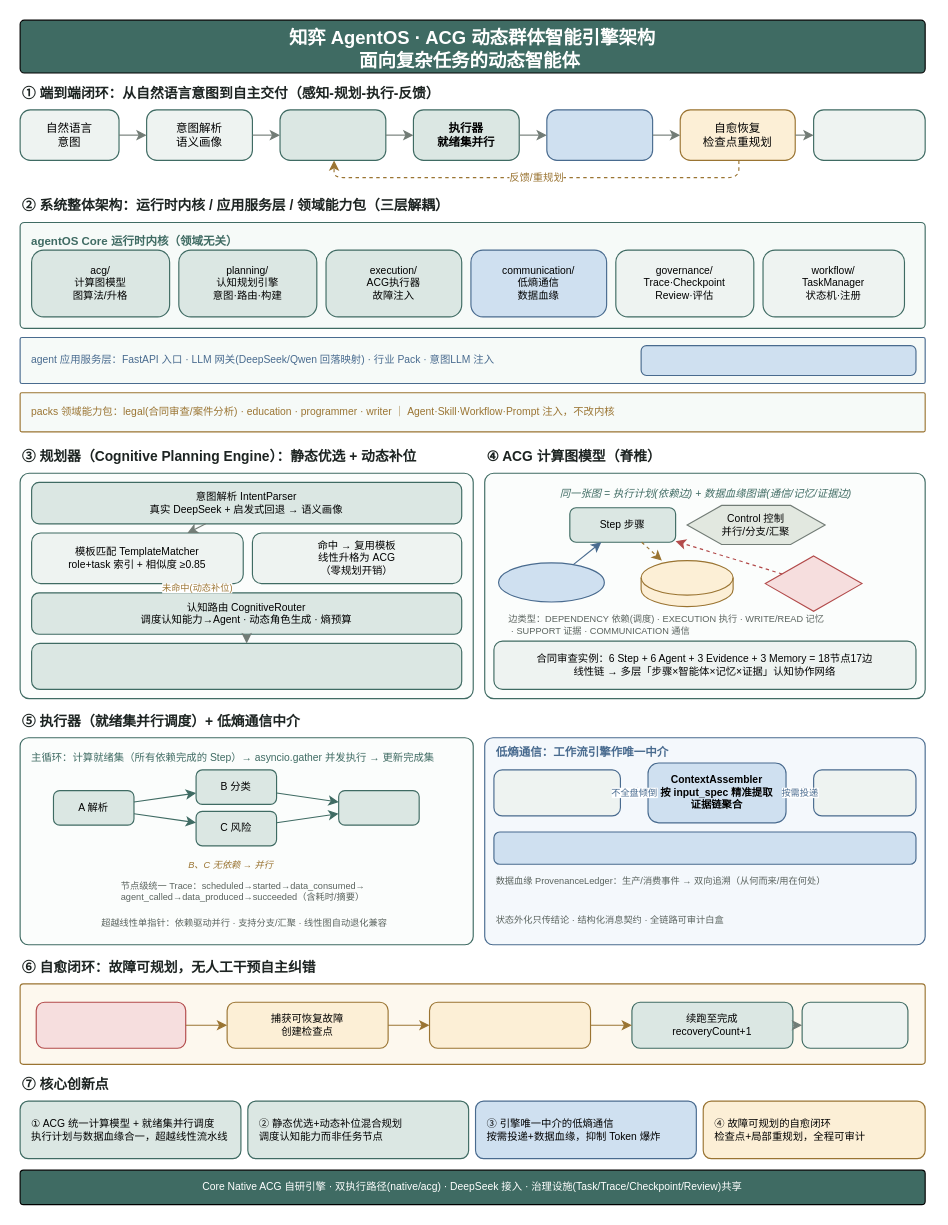
This 948x1225 diagram has some shape labels left out. The shapes that lost their labels are listed below. From the top down, each one's centre as x and y in pixels, then its label:
(332,134): 规划器 生成 ACG
(599,134): 低熵通信 按需投递
(868,134): 交付物 +全链路审计
(778,359): 双执行路径：native · acg
(550,582): Agent 智能体
(686,583): Memory 记忆
(813,583): Evidence 证据
(246,665): ACG 构建器 ACGBuilder 步骤分解 · 赋能节点注入(Memory/Evidence) · 环检测
(378,807): D 汇聚
(556,792): 上游 Step 完整输出 （全部字段）
(864,792): 下游 Step 仅需字段
(704,847): 实测 Token 节省率 ~22%（合同审查）· 抑制长程冗余爆炸
(110,1024): 故障注入 超时/崩溃/证据空
(509,1024): 局部重规划 复位子图重跑
(854,1024): 恢复轨迹 入 Trace 审计
